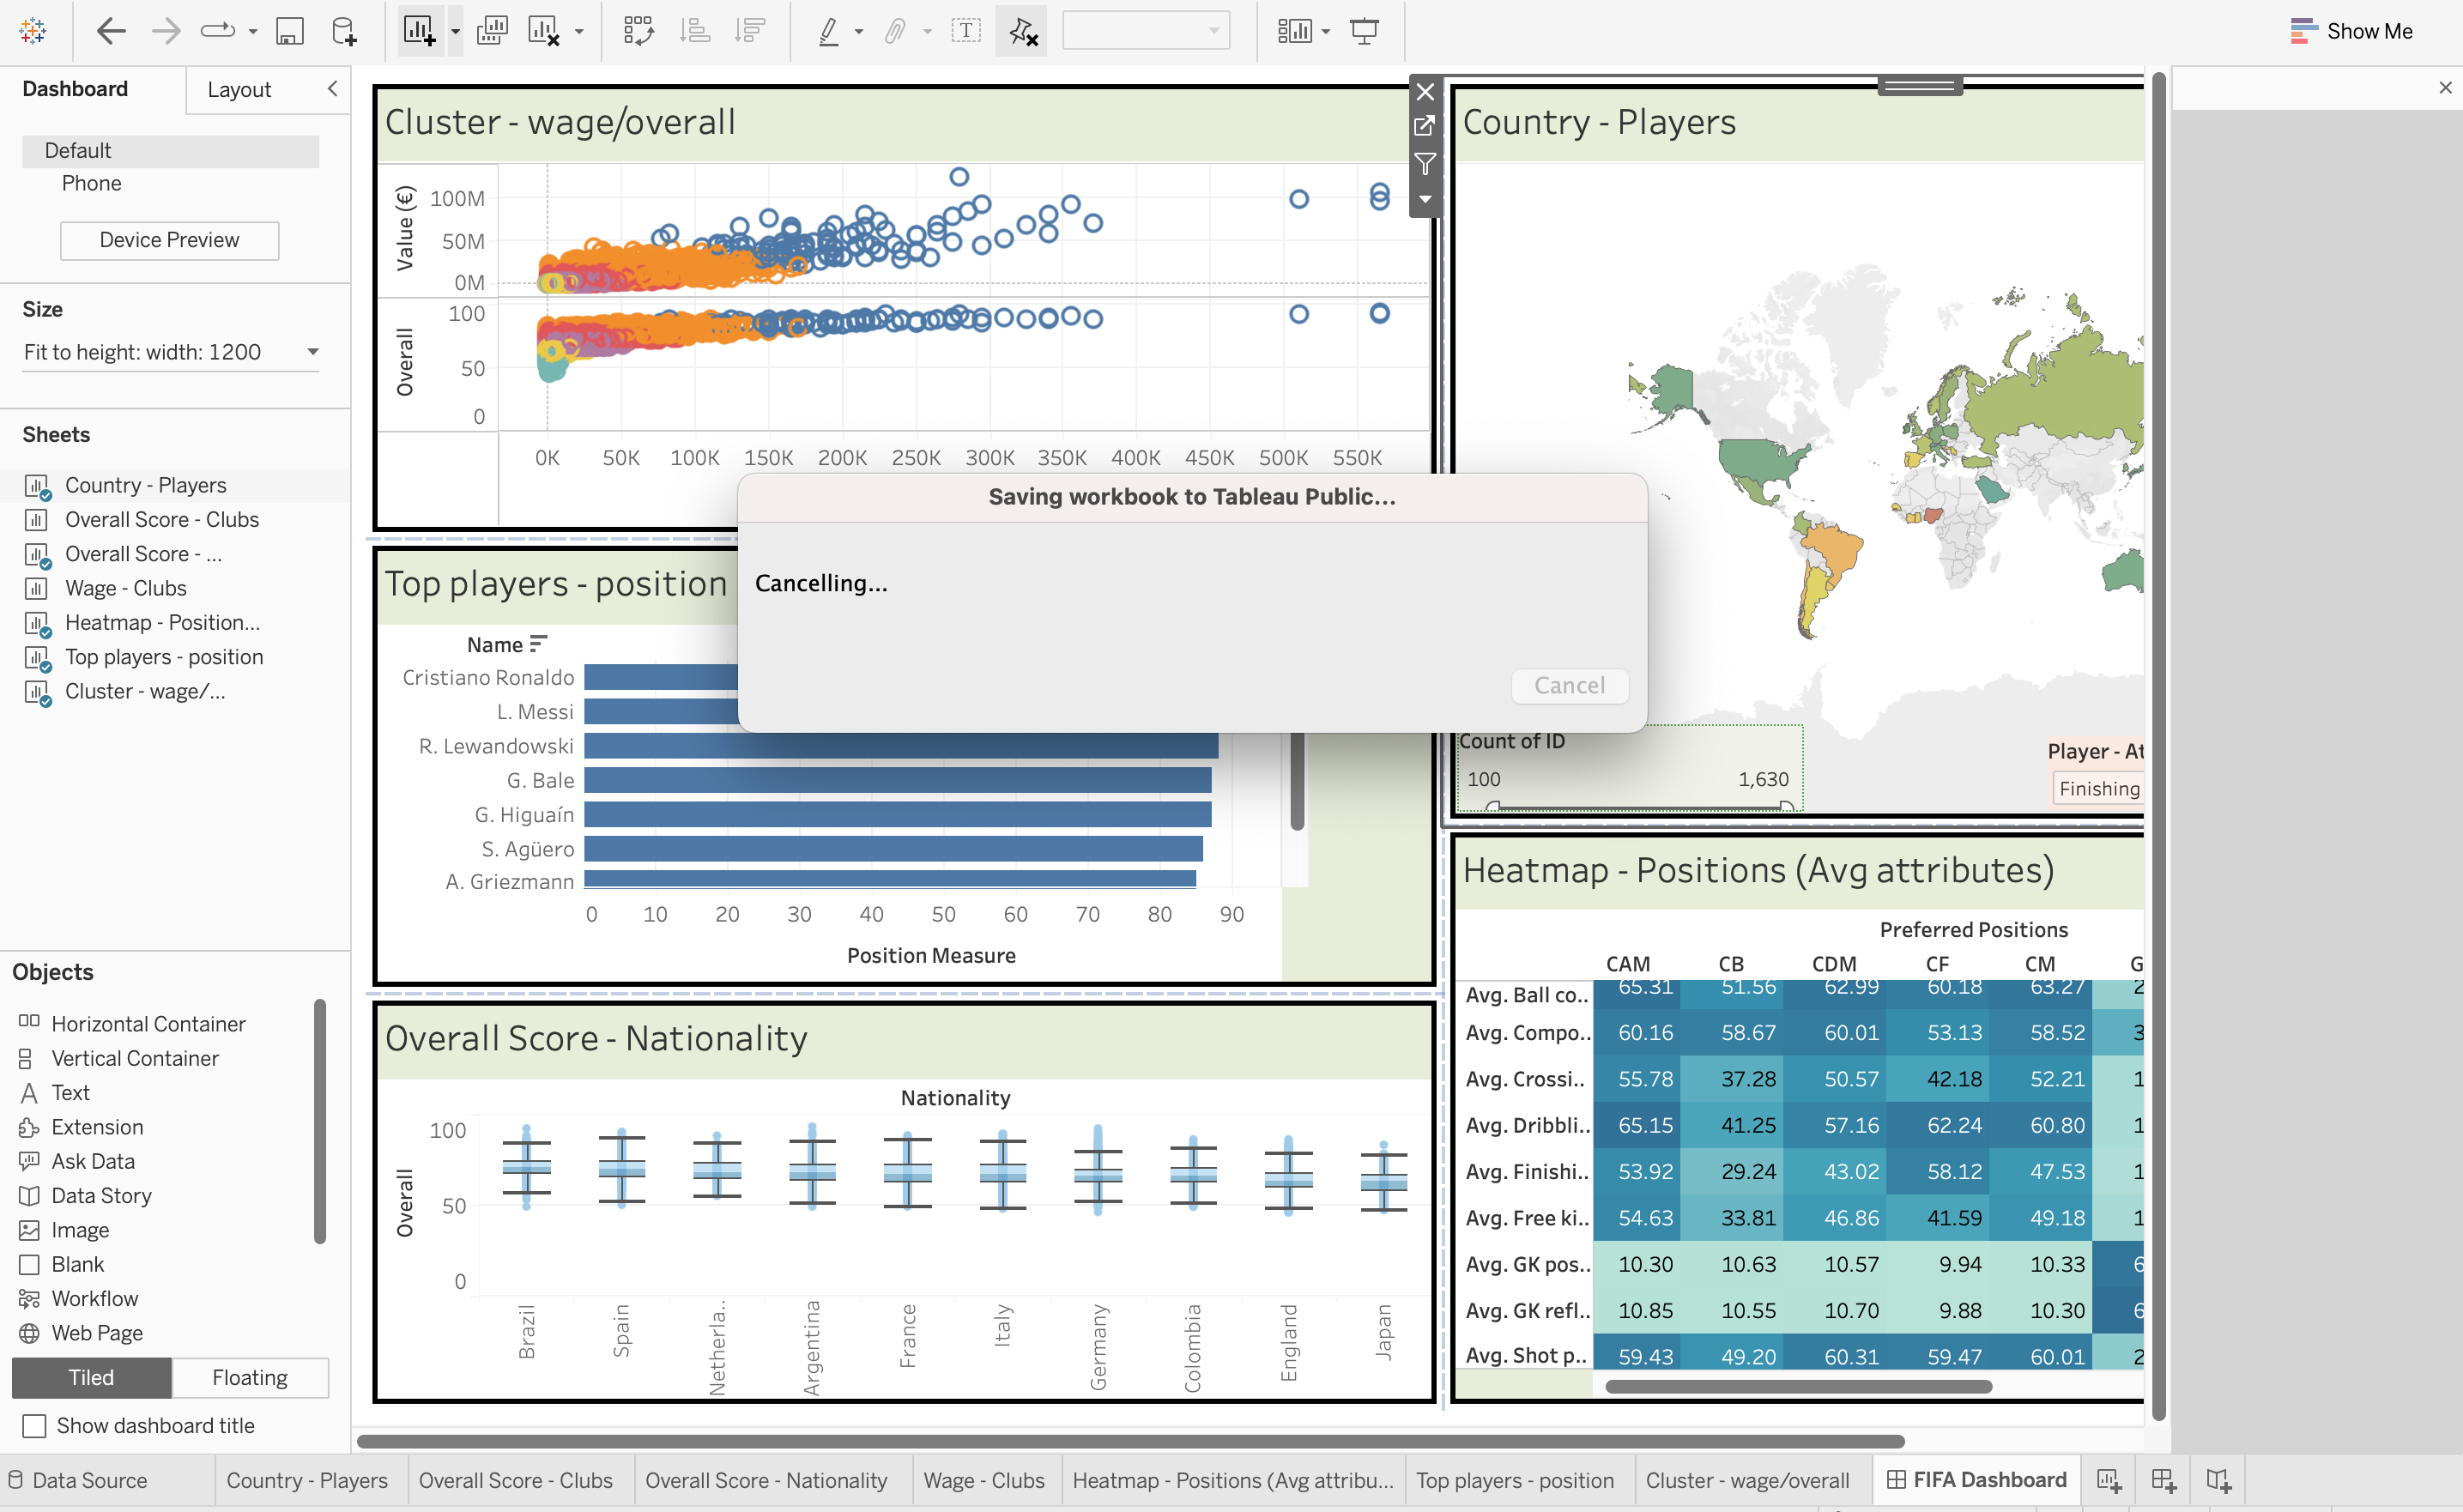

This screenshot's page, from the dashboard's own definition file:
{"tool":"tableau","page":{"name":"FIFA Dashboard","canvas":[1000,1000],"units":"permille","ordinal":0},"visuals":[{"type":"worksheet","title":"Cluster - wage/overall","mark":"Automatic","rows":["Value (€)","Overall"],"cols":["Wage (€)"],"box":[6.7,9.9,523.3,339.9]},{"type":"worksheet","title":"Country - Players","mark":"Automatic","box":[529.9,9.9,463.4,550.1]},{"type":"worksheet","title":"Top players - position","mark":"Automatic","rows":["Name"],"cols":["Calculation_6888607494642794501"],"box":[6.7,349.8,523.3,334.4]},{"type":"parameter","param":"[Parameters].[Parameter 2]","box":[321,363.4,198,55.6]},{"type":"filter","title":"Country - Players","param":"[federated.04d7c270hj1zym1ellyk1154vipe].[cnt:ID:qk]","box":[537,485.8,168,64.3]},{"type":"parameter","param":"[Parameters].[Parameter 1]","box":[823,494.4,160,54.4]},{"type":"worksheet","title":"Heatmap - Positions (Avg attributes)","mark":"Square","cols":["Preferred Positions"],"box":[529.9,559.9,463.4,430.2]},{"type":"worksheet","title":"Overall Score - Nationality","mark":"Circle","rows":["Overall"],"cols":["Nationality"],"box":[6.7,684.2,523.3,305.9]}]}

Visuals, with their boxes on the dashboard's canvas, which has no fixed pixel size, in thousandths of its width and height (x1, y1, x2, y2). These are canvas units, not pixel positions in the 2463x1512 screenshot, which may show the page scaled, cropped or inside an application window:
"Cluster - wage/overall" worksheet: 7, 10, 530, 350
"Country - Players" worksheet: 530, 10, 993, 560
"Top players - position" worksheet: 7, 350, 530, 684
parameter: 321, 363, 519, 419
"Country - Players" filter: 537, 486, 705, 550
parameter: 823, 494, 983, 549
"Heatmap - Positions (Avg attributes)" worksheet (Square marks): 530, 560, 993, 990
"Overall Score - Nationality" worksheet (Circle marks): 7, 684, 530, 990
